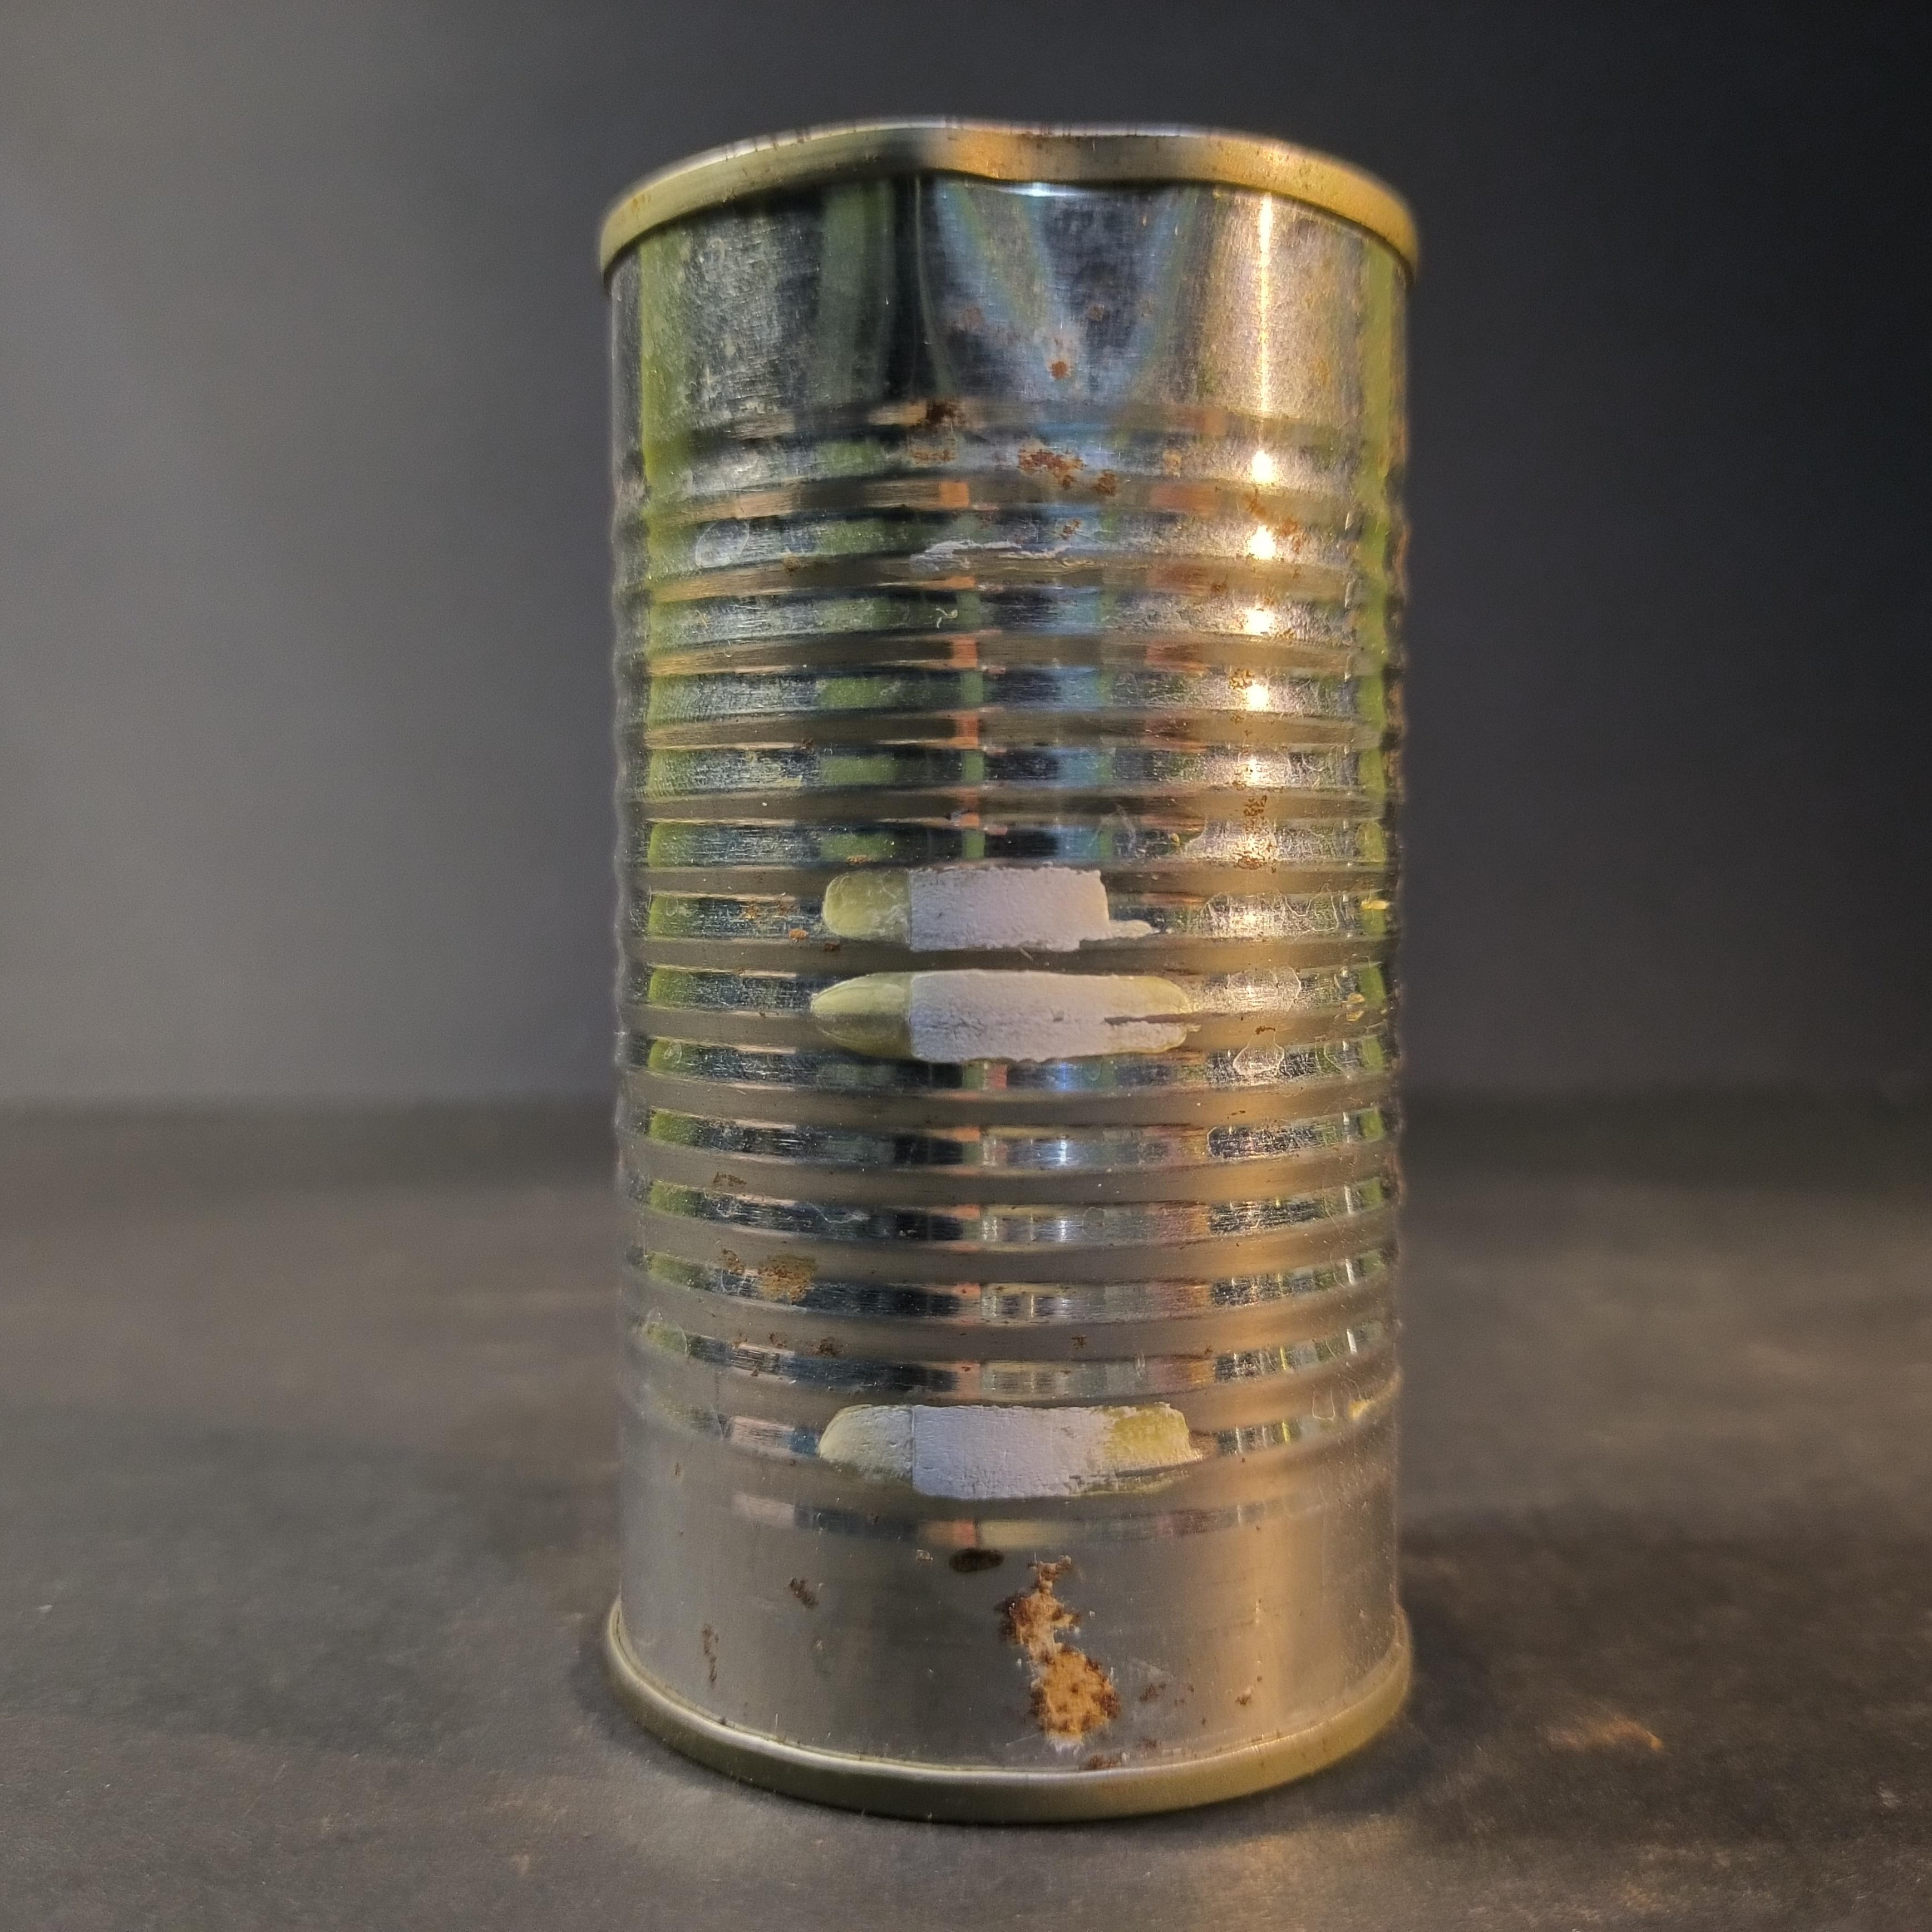Dented: (573, 83, 1463, 1831)
